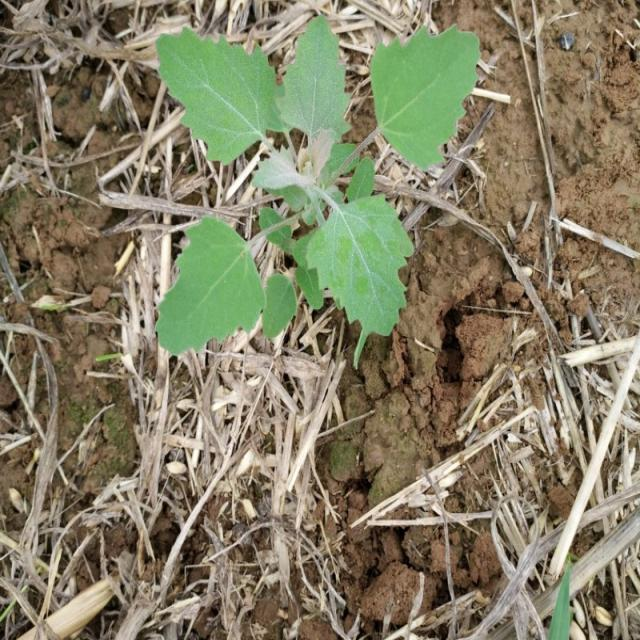goosefoots: (148, 14, 468, 359)
